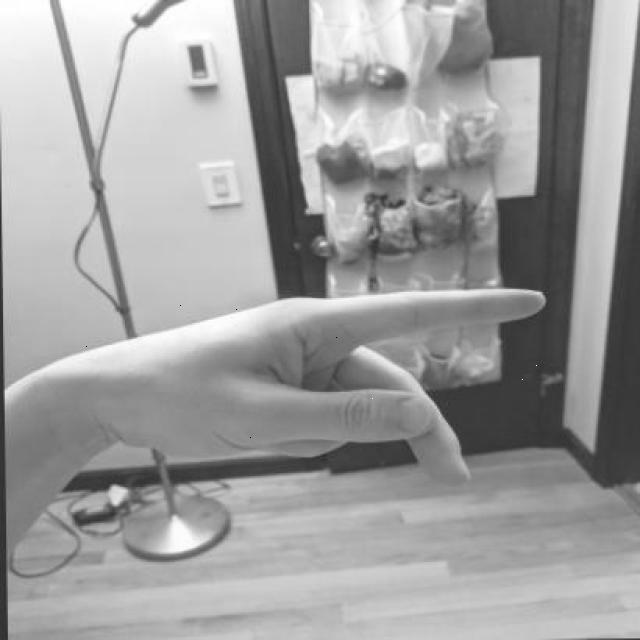P: (75, 280, 556, 496)
